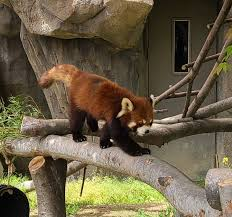redPanda: (33, 54, 165, 165)
